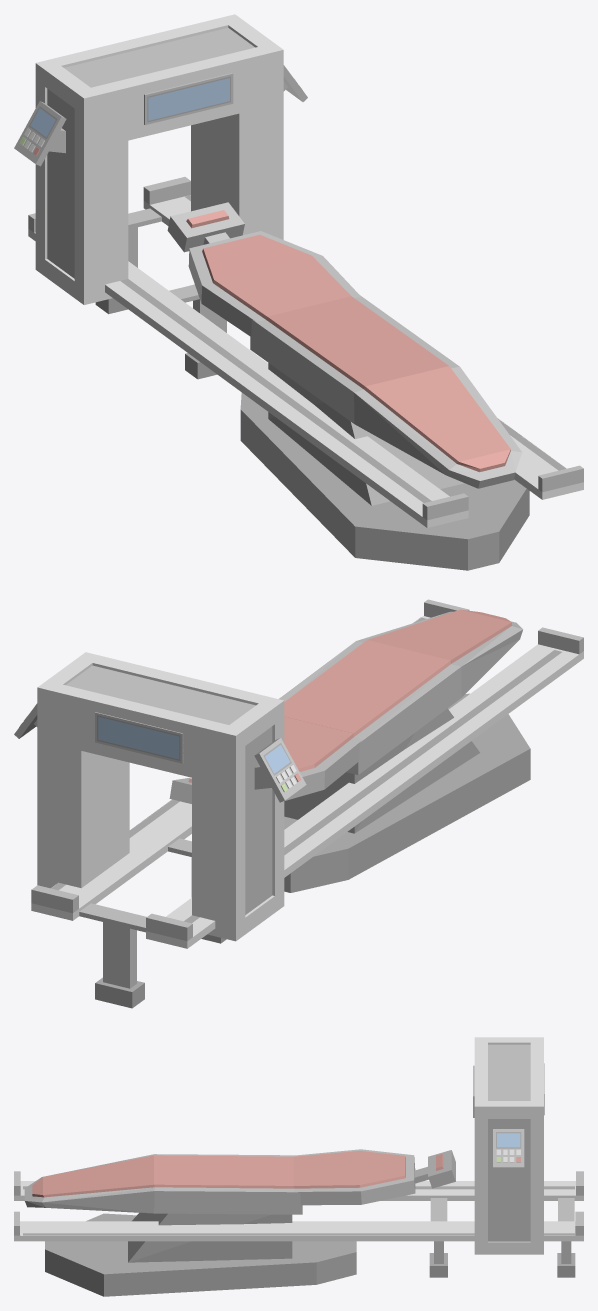
File: mri.fbx
3 views of the same model, one above another, from view 1: azimuth 30°, elevation 25°; view 2: azimuth 150°, elevation 25°; view 3: azimuth 270°, elevation 25° (orthographic). The views are drawn at different scales.
Visible parts, largest first — view 1: Cube_7, Boole; view 2: Cube_7, Boole; view 3: Cube_7, Boole.
Boxes of the visible parts, x1,y1,x2,y2 form: Cube_7: [28, 177, 583, 570]; Boole: [14, 14, 307, 304]; Cube_7: [31, 599, 583, 1008]; Boole: [14, 652, 306, 941]; Cube_7: [14, 1149, 583, 1296]; Boole: [473, 1037, 544, 1254].
Size of the model in its own units: 53.79 by 52.45 by 136.
